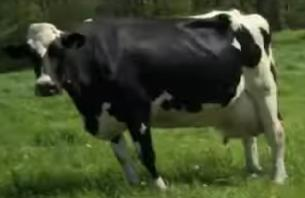cow: (8, 11, 285, 188)
